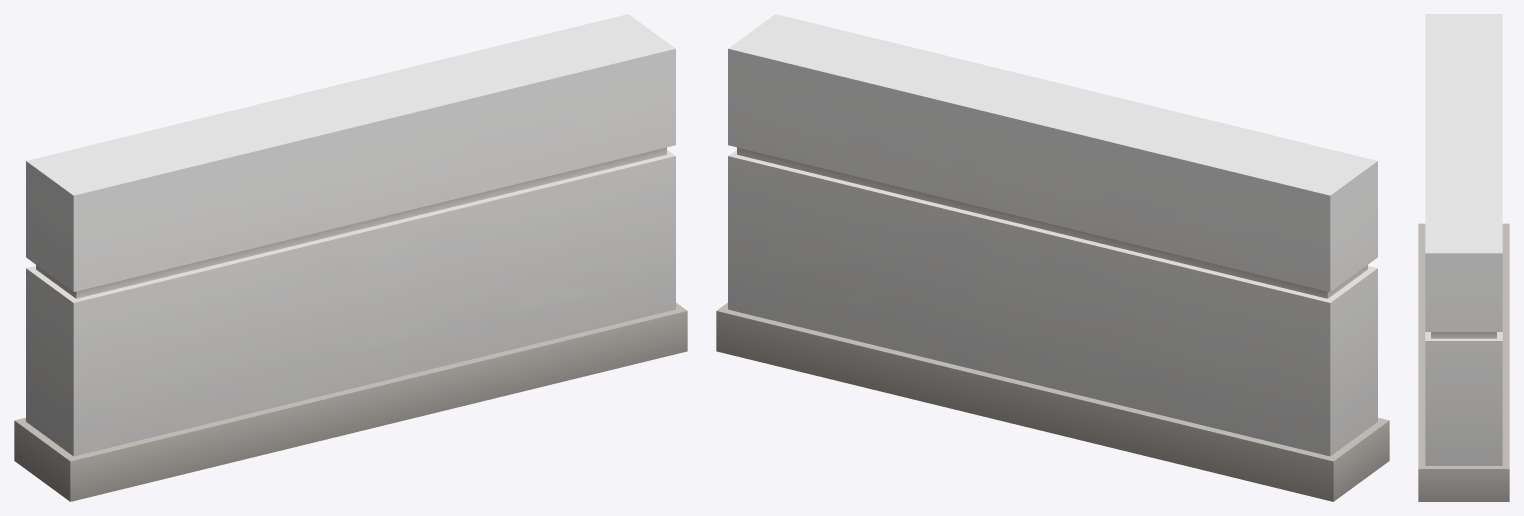
File: Wall_Divider_A.fbx
The picture shows the model from 3 angles, left to right: view 1: azimuth 30°, elevation 25°; view 2: azimuth 150°, elevation 25°; view 3: azimuth 270°, elevation 25°; orthographic projection. The views are drawn at different scales.
Visible parts, largest first — view 1: Wall_Divider_A; view 2: Wall_Divider_A; view 3: Wall_Divider_A.
Part boxes in pixels (x1,y1,x2,y2): Wall_Divider_A: (14,14,687,501); Wall_Divider_A: (716,14,1389,501); Wall_Divider_A: (1418,14,1509,501).
Size of the model in its own units: 300 by 140 by 47.22.
